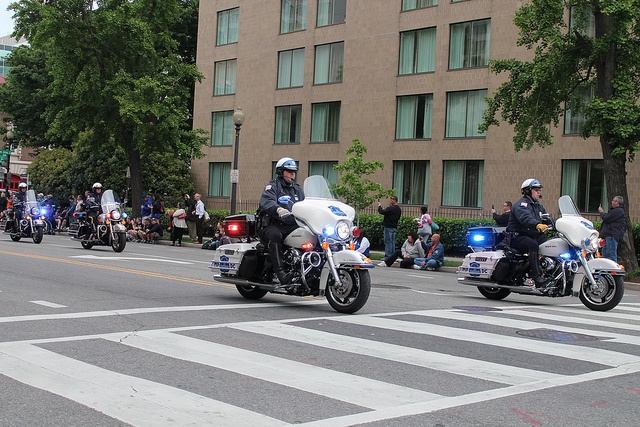non-vehicle: (207, 173, 374, 314), (456, 194, 626, 310), (67, 187, 128, 252), (1, 187, 46, 242)
